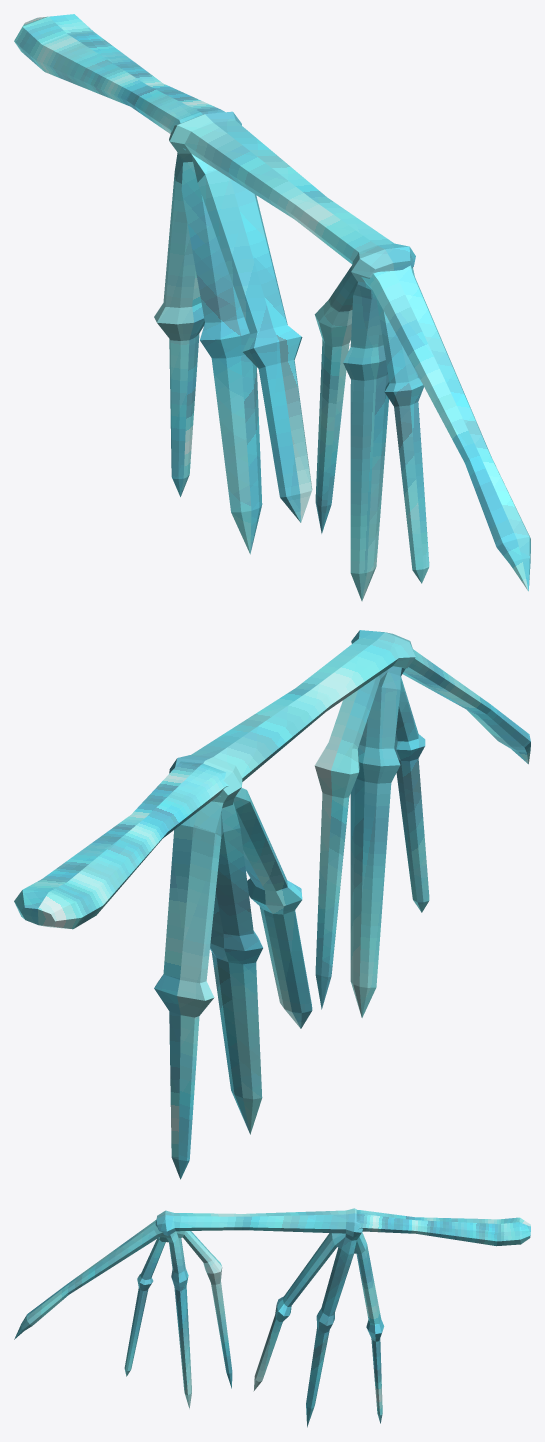
Rendered from sylphwing.obj.
3 renders of one model, top to bottom at view 1: azimuth 30°, elevation 25°; view 2: azimuth 150°, elevation 25°; view 3: azimuth 270°, elevation 25°, orthographic. The views are drawn at different scales.
Visible parts, largest first — view 1: Base, Wing03, Wing01; view 2: Base, Wing03, Wing01; view 3: Base, Wing03, Wing01.
Part boxes in pixels (bbox=[...]): Base: bbox=[154, 111, 415, 554]; Wing03: bbox=[314, 265, 530, 601]; Wing01: bbox=[14, 14, 225, 150]; Base: bbox=[154, 630, 415, 1179]; Wing03: bbox=[314, 649, 530, 1017]; Wing01: bbox=[14, 761, 229, 929]; Base: bbox=[155, 1208, 384, 1427]; Wing03: bbox=[14, 1219, 232, 1408]; Wing01: bbox=[347, 1210, 530, 1246].
Bounding box in the file's own units: 0.1311 × 0.7051 × 1.54.
